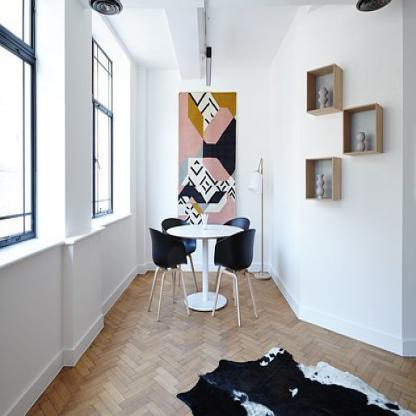chair: (213, 224, 267, 326), (142, 223, 191, 312), (162, 205, 200, 295)
light: (245, 150, 274, 285)
table: (167, 217, 246, 314)
